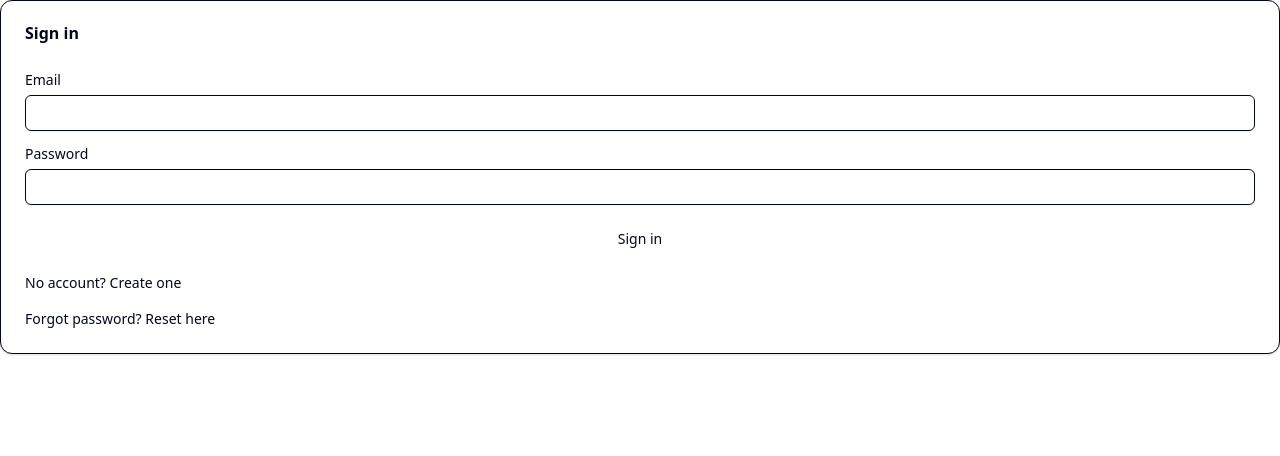
Scenario: LoginFormView › maps server auth error message
Step 1. Type "user@example.com" into the field labelled "Email" → (640, 113), box [25, 95, 1255, 131]
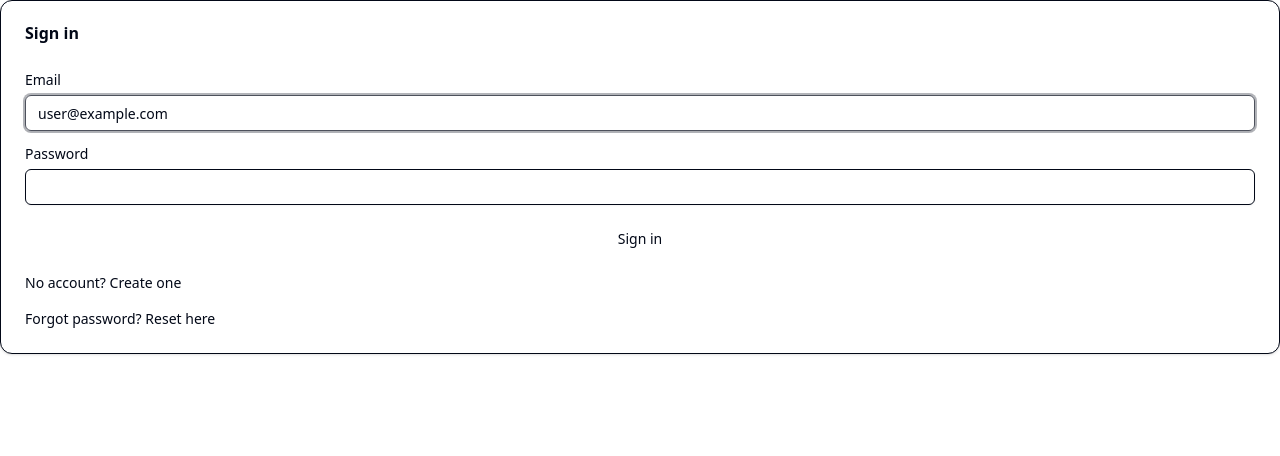
Step 2. Type "wrong-password" into the password field labelled "Password" → (640, 187), box [25, 169, 1255, 205]
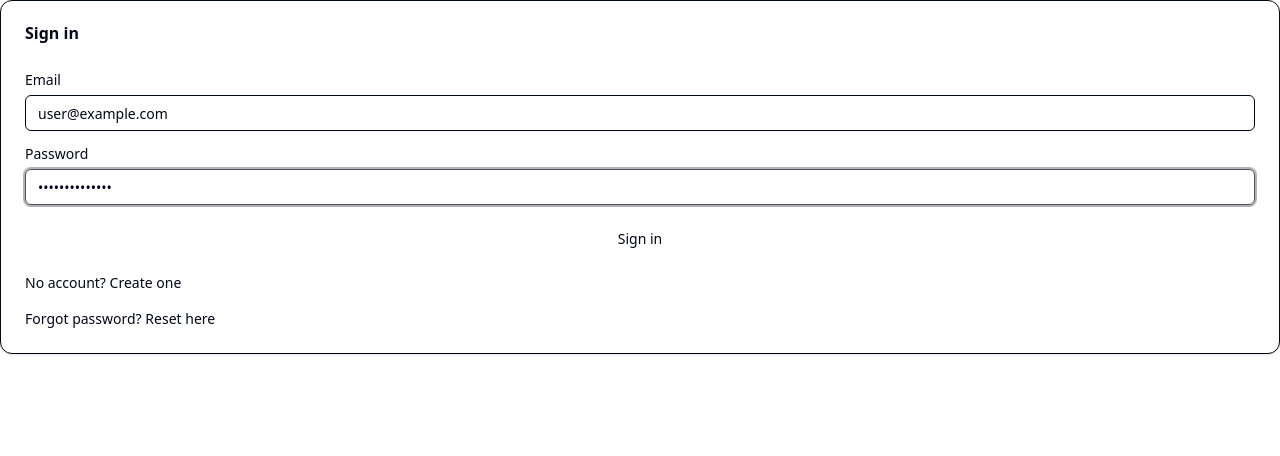
Step 3. Click the button "Sign in" → (640, 239), box [25, 221, 1255, 257]
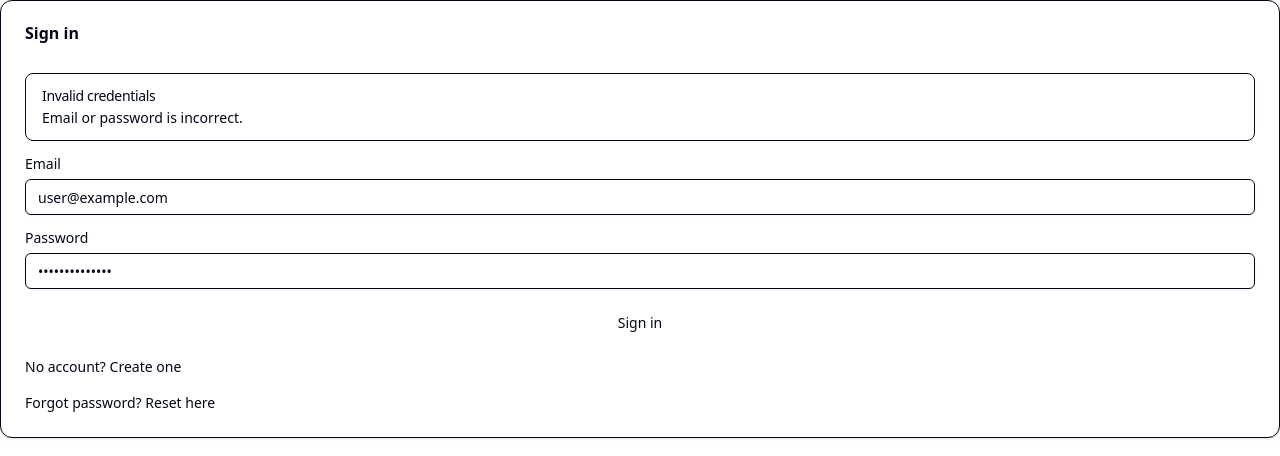
Expected: the text "Invalid credentials" is shown, [42, 86, 155, 105]
